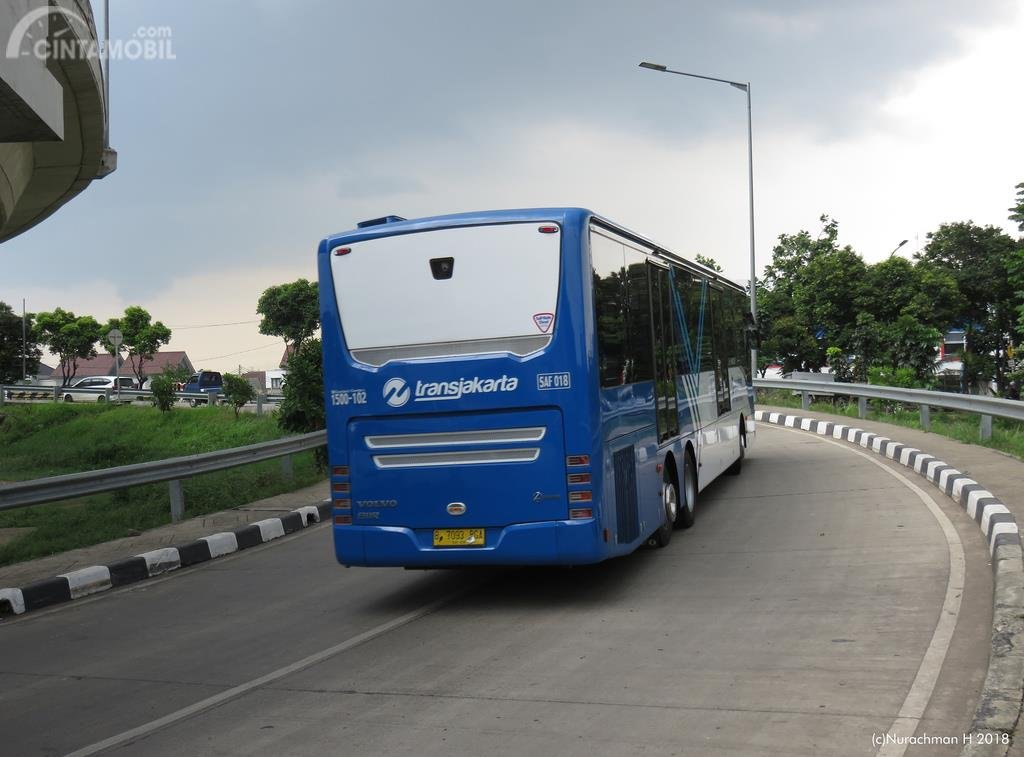plate: (435, 528, 482, 549)
